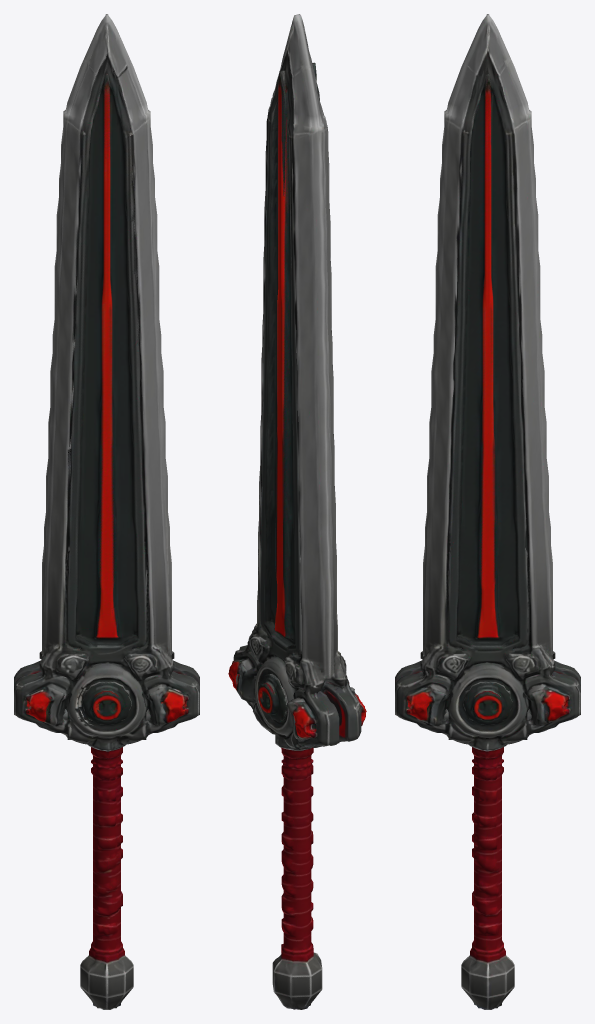
3 renders of one model, left to right at view 1: azimuth 90°, elevation 25°; view 2: azimuth 210°, elevation 25°; view 3: azimuth 270°, elevation 25°, orthographic.
Parts seen in each view (by area): view 1: tripo_node_d5f618d8-176f-48f1-b418-e675a96f1e93; view 2: tripo_node_d5f618d8-176f-48f1-b418-e675a96f1e93; view 3: tripo_node_d5f618d8-176f-48f1-b418-e675a96f1e93.
Boxes of the visible parts, box(x1,y1,x2,y2) form: tripo_node_d5f618d8-176f-48f1-b418-e675a96f1e93: box(14, 14, 199, 1009); tripo_node_d5f618d8-176f-48f1-b418-e675a96f1e93: box(228, 14, 366, 1009); tripo_node_d5f618d8-176f-48f1-b418-e675a96f1e93: box(395, 14, 580, 1009).
Size of the model in its own units: 0.0724 by 1 by 0.1703.
1 material, 1 textured.
